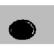correct: (7, 14, 37, 42)
